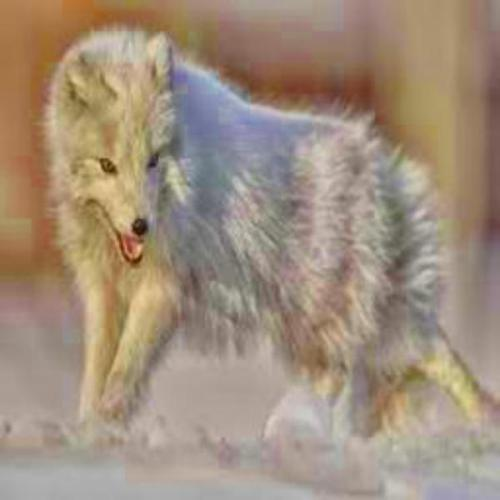arctic_fox-endangered: (46, 28, 500, 441)
